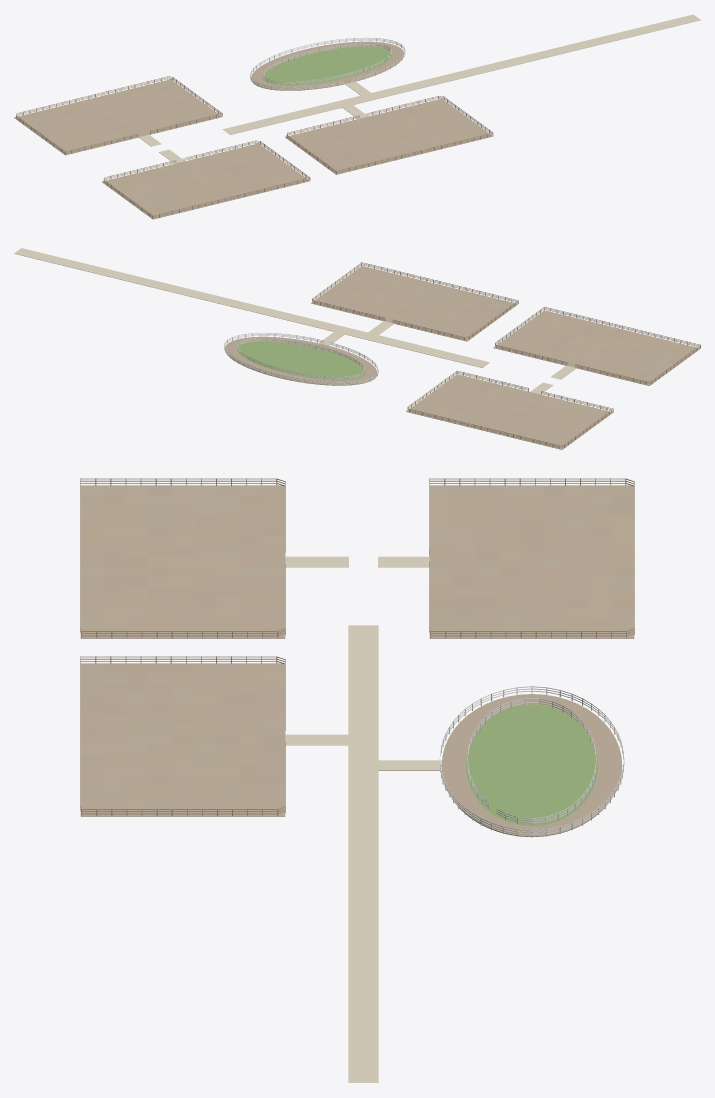
The model's file is SM_BM_BHip_Arenas.glb.
3 views of the same model, one above another, from view 1: azimuth 30°, elevation 25°; view 2: azimuth 150°, elevation 25°; view 3: azimuth 270°, elevation 25° (orthographic). The views are drawn at different scales.
Visible parts, largest first — view 1: SM_BM_BHip_Arenas; view 2: SM_BM_BHip_Arenas; view 3: SM_BM_BHip_Arenas.
Boxes of the visible parts, x1,y1,x2,y2 form: SM_BM_BHip_Arenas: (14,14,700,219); SM_BM_BHip_Arenas: (14,248,700,449); SM_BM_BHip_Arenas: (80,478,634,1082).
Size of the model in its own units: 235 by 1.43 by 92.14.
